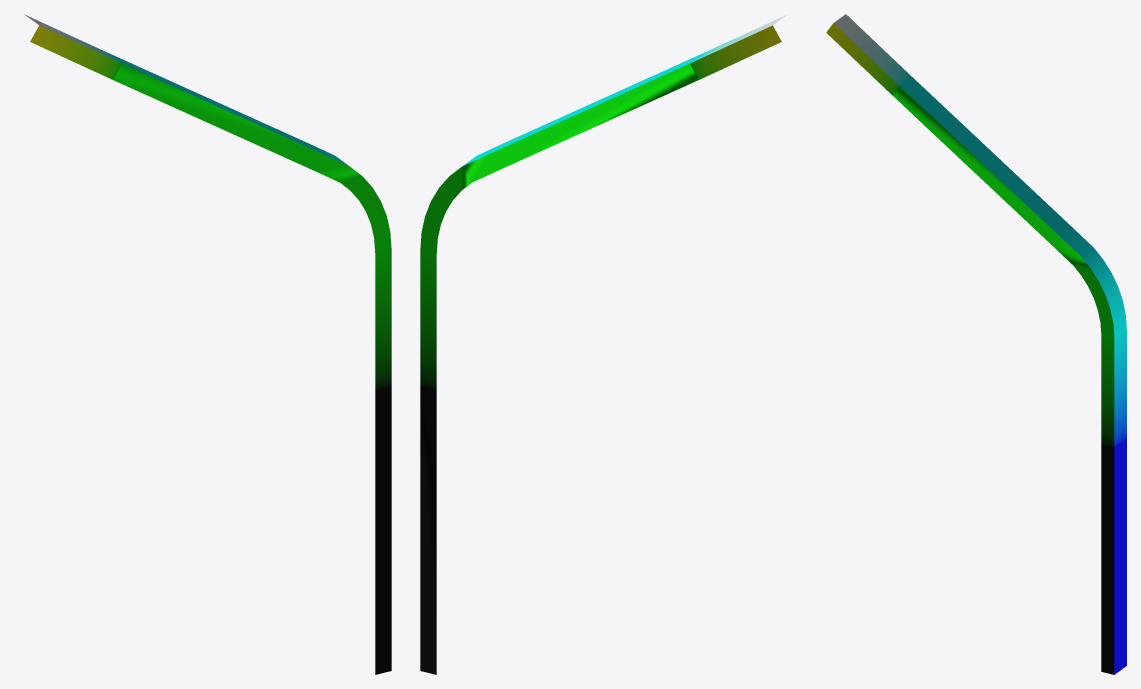
Rendered from PowerflowSolarBattery.glb.
3 views of the same model, side by side, from view 1: azimuth 30°, elevation 25°; view 2: azimuth 150°, elevation 25°; view 3: azimuth 330°, elevation 25° (orthographic). The views are drawn at different scales.
Visible parts, largest first — view 1: PowerflowSolarBattery-1-A; view 2: PowerflowSolarBattery-1-A; view 3: PowerflowSolarBattery-1-A.
Part boxes in pixels (x1,y1,x2,y2): PowerflowSolarBattery-1-A: [24, 14, 391, 674]; PowerflowSolarBattery-1-A: [420, 14, 787, 674]; PowerflowSolarBattery-1-A: [826, 14, 1126, 674].
Bounding box in the file's own units: 0.4413 × 0.8533 × 0.033.
